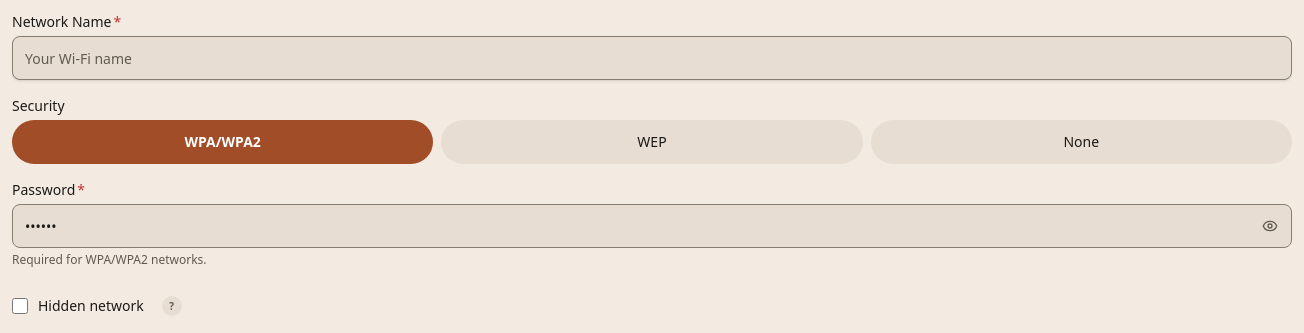
it: WiFiForm › toggles password visibility
Step 1. Click the button named "Show password" → [1270, 226], box left=1252, top=208, right=1288, bottom=244
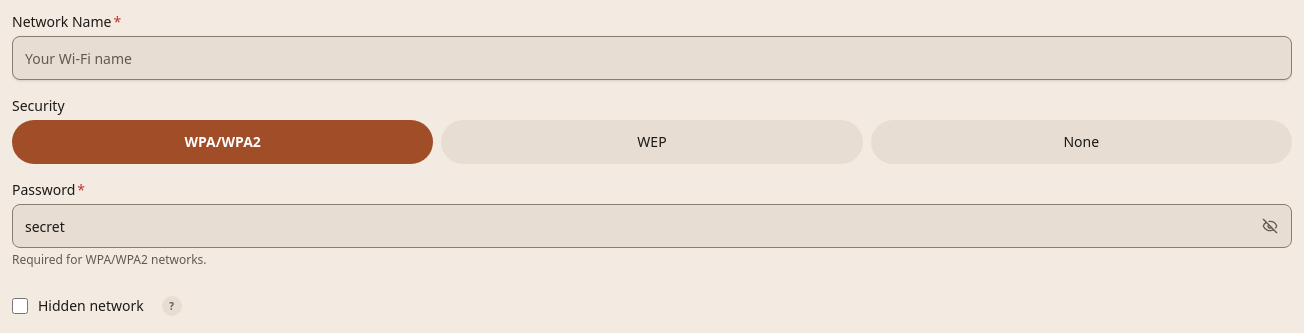
Expected: the field with placeholder "Network password" shows its text, left=12, top=204, right=1292, bottom=248
Step 2. Click the button named "Hide password" → [1270, 226], box left=1252, top=208, right=1288, bottom=244
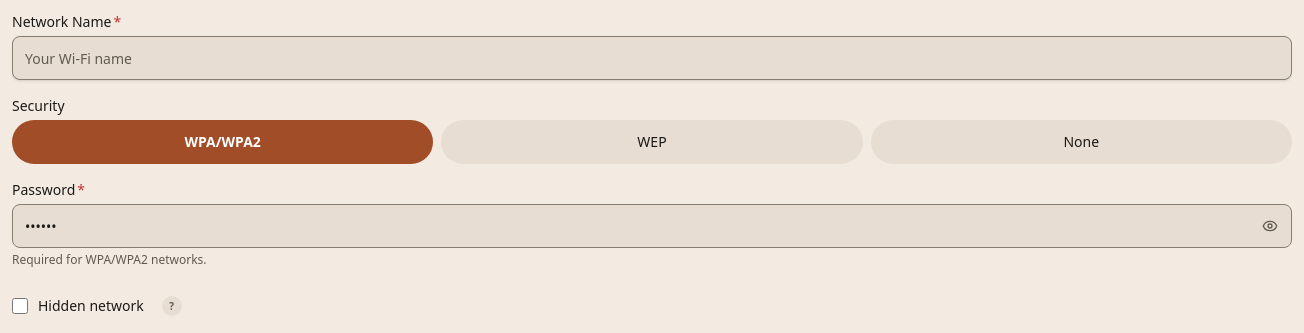
Expected: the password field with placeholder "Network password" hides its text, left=12, top=204, right=1292, bottom=248
